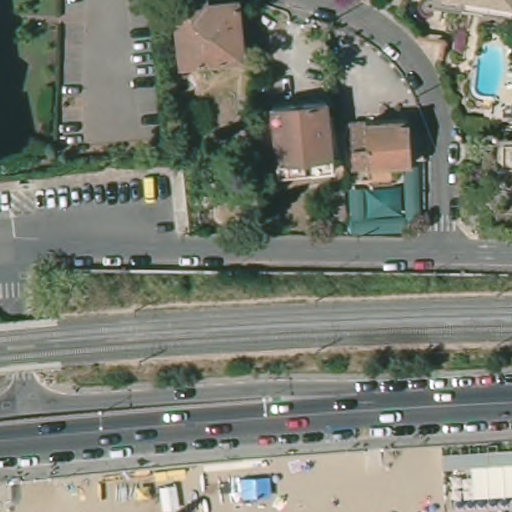pool: (471, 43, 508, 102)
